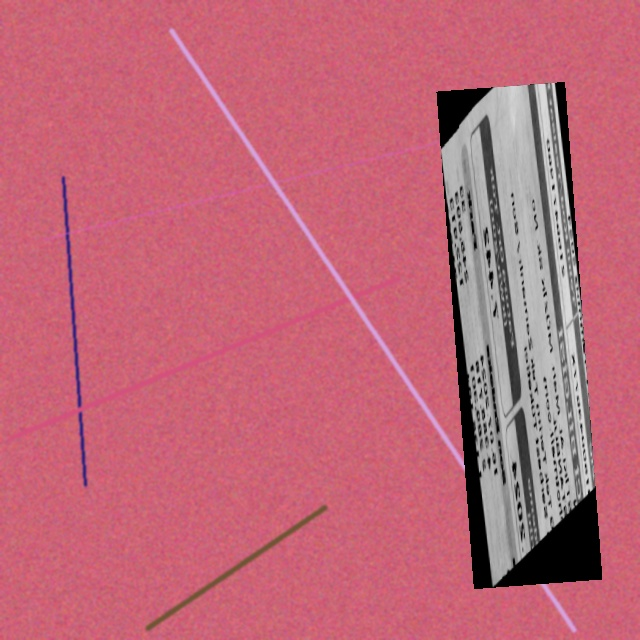electricity-bill: (435, 82, 601, 589)
